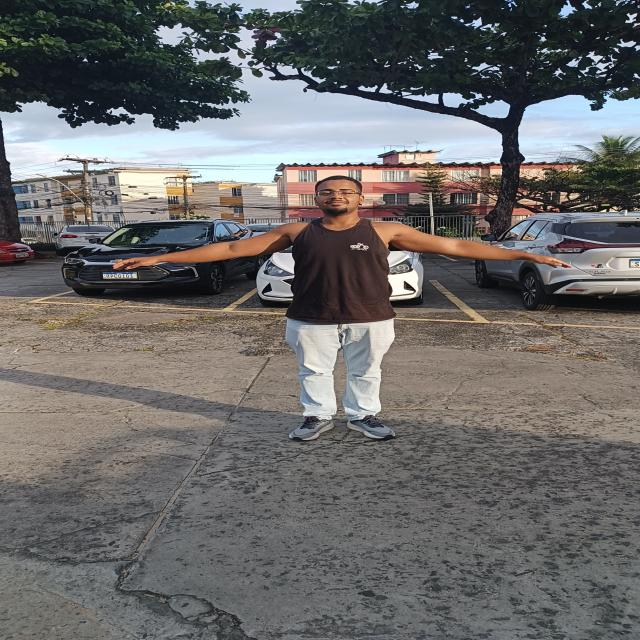takeoff: (113, 176, 572, 440)
